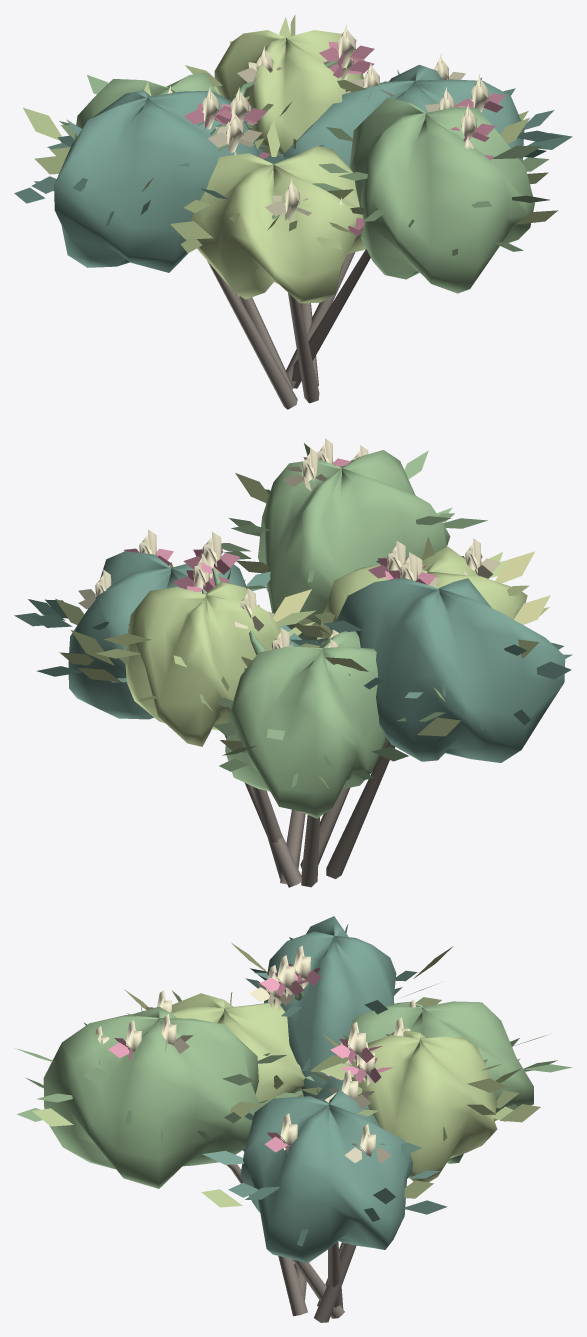
Rendered from bush_berry.glb.
The picture shows the model from 3 angles, top to bottom: view 1: azimuth 30°, elevation 25°; view 2: azimuth 150°, elevation 25°; view 3: azimuth 270°, elevation 25°; orthographic projection. The views are drawn at different scales.
Parts seen in each view (by area): view 1: bush_berry; view 2: bush_berry; view 3: bush_berry.
Part boxes in pixels (left/top/right/bottom): bush_berry: left=14, top=14, right=572, bottom=409; bush_berry: left=14, top=438, right=572, bottom=887; bush_berry: left=15, top=916, right=572, bottom=1322.
Size of the model in its own units: 2.66 by 1.68 by 2.54.
